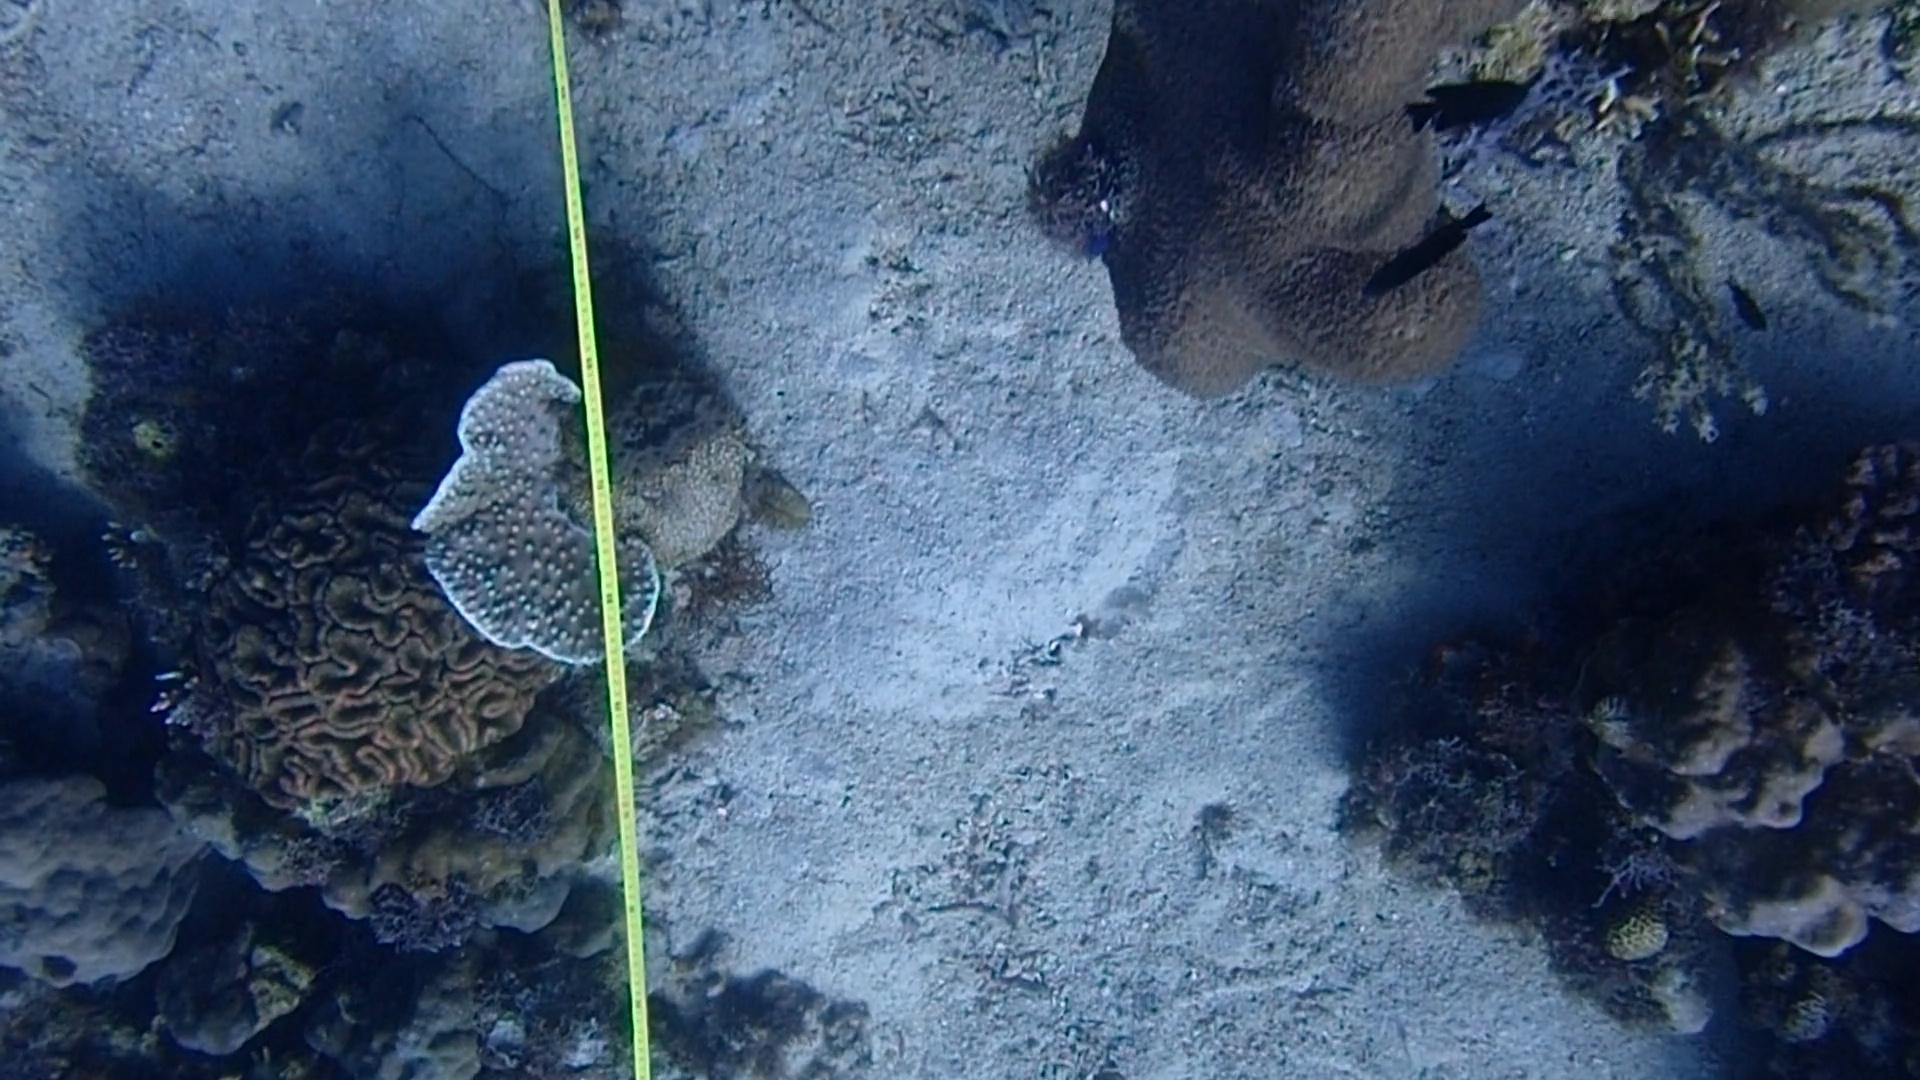Dark Fish: (1367, 206, 1513, 311), (1389, 63, 1524, 141), (1705, 258, 1783, 348)
